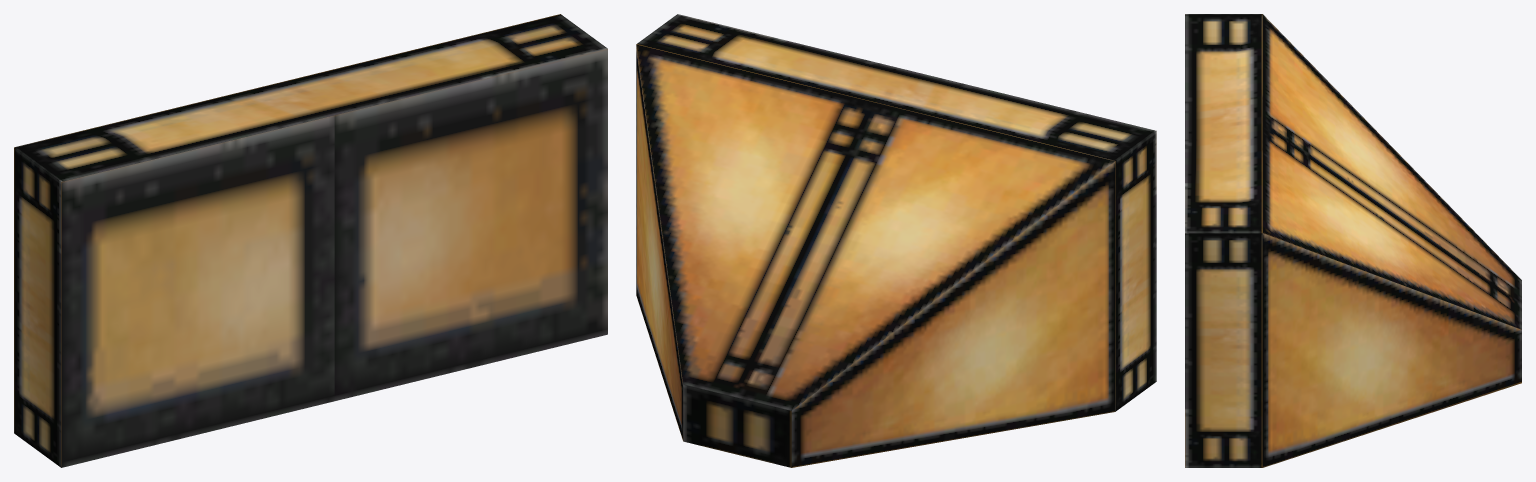
The model's file is wall_sconce_var5.fbx.
3 views of the same model, side by side, from view 1: azimuth 30°, elevation 25°; view 2: azimuth 150°, elevation 25°; view 3: azimuth 270°, elevation 25° (orthographic). The views are drawn at different scales.
Visible parts, largest first — view 1: mesh_0; view 2: mesh_0; view 3: mesh_0.
Boxes of the visible parts, x1,y1,x2,y2 form: mesh_0: (14,14,607,467); mesh_0: (636,14,1156,467); mesh_0: (1185,14,1521,467).
Bounding box in the file's own units: 50.96 × 25.48 × 33.12.
Materials: 1 (1 with a texture image).
